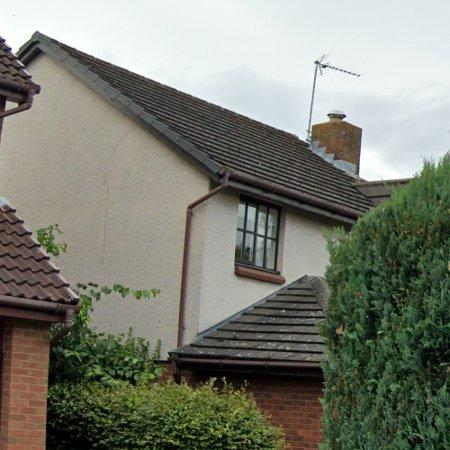chimneys: (308, 102, 366, 178)
